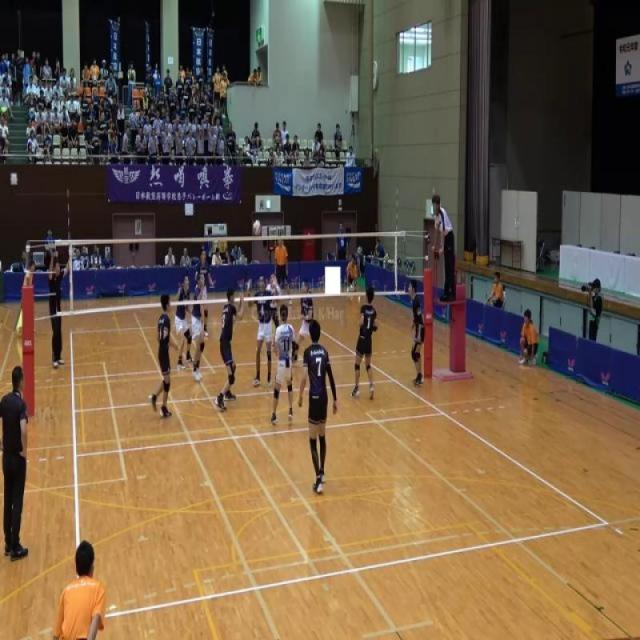volleyball: (252, 218, 262, 236), (350, 284, 354, 292)
